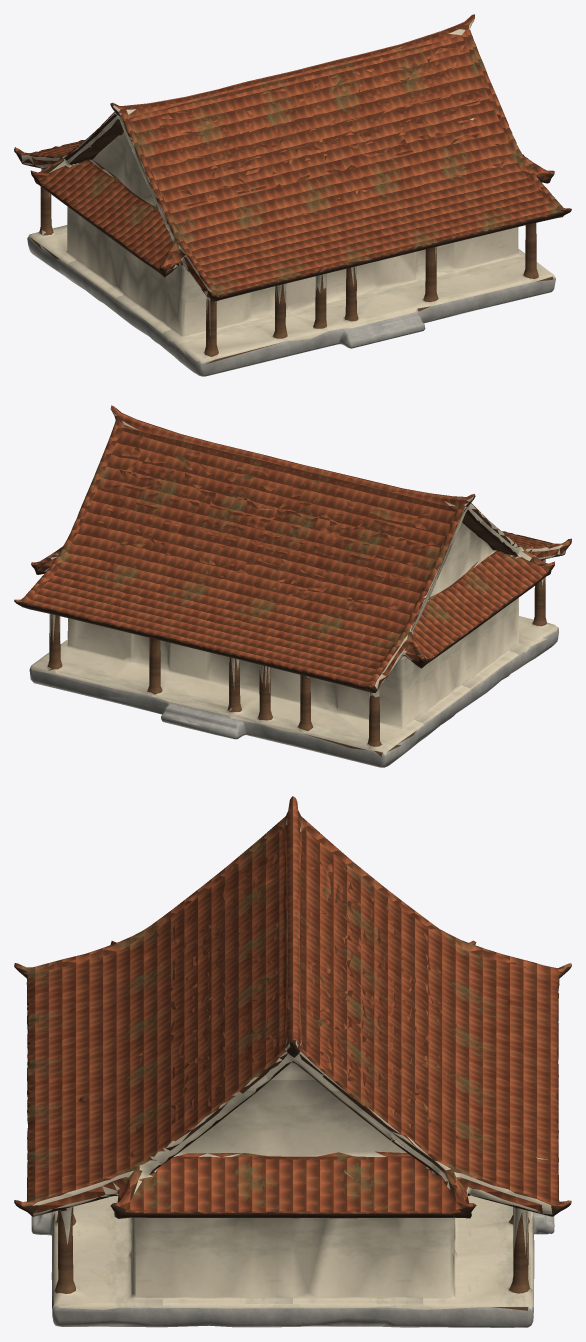
File: house_vn_01.glb
3 views of the same model, one above another, from view 1: azimuth 30°, elevation 25°; view 2: azimuth 150°, elevation 25°; view 3: azimuth 270°, elevation 25° (orthographic). The views are drawn at different scales.
Parts seen in each view (by area): view 1: house_vn_01; view 2: house_vn_01; view 3: house_vn_01.
Part boxes in pixels (x1,y1,x2,y2): house_vn_01: (14, 14, 571, 376); house_vn_01: (14, 405, 571, 767); house_vn_01: (14, 796, 571, 1327).
Size of the model in its own units: 14.4 by 7.44 by 12.86.
5 materials, 5 textured.
